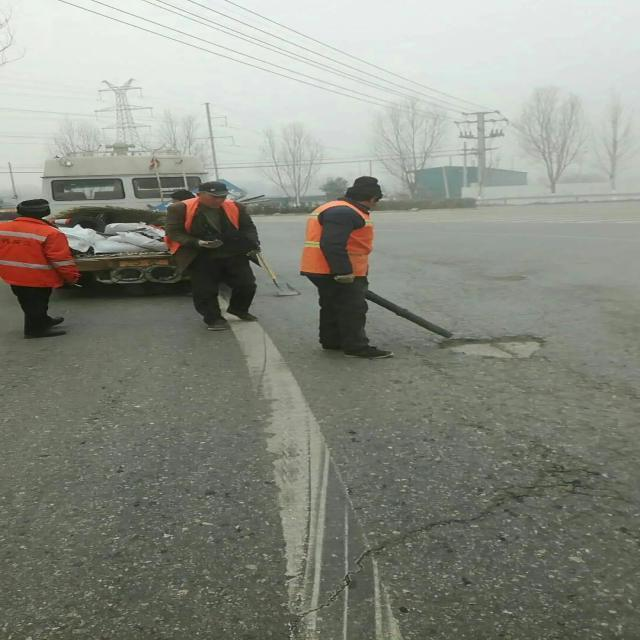pothole: (431, 331, 555, 367)
